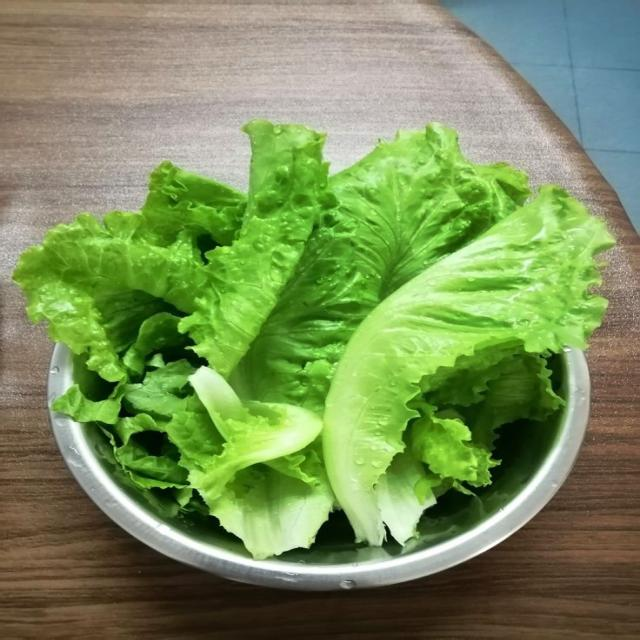lettuce: (14, 121, 612, 558), (324, 188, 612, 544)
